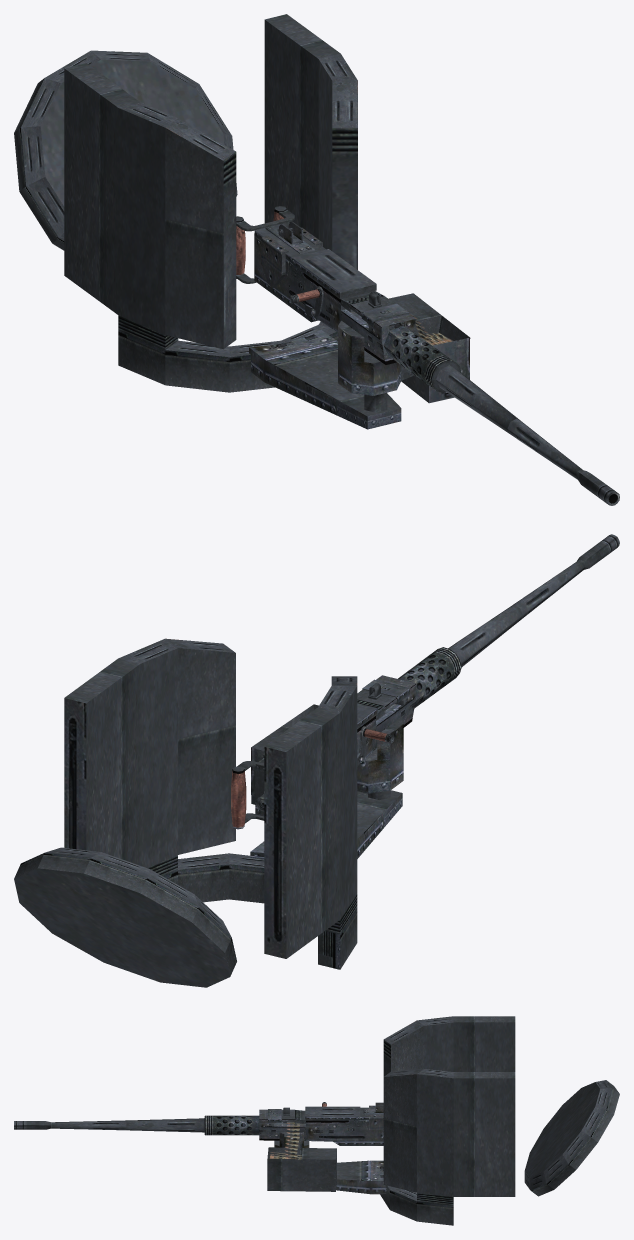
File: em50cal.glb
3 views of the same model, one above another, from view 1: azimuth 30°, elevation 25°; view 2: azimuth 150°, elevation 25°; view 3: azimuth 270°, elevation 25° (orthographic). The views are drawn at different scales.
Visible parts, largest first — view 1: _em50cal; view 2: _em50cal; view 3: _em50cal.
Boxes of the visible parts, x1,y1,x2,y2 form: _em50cal: (14,14,619,505); _em50cal: (14,534,619,987); _em50cal: (14,1016,619,1225).
Bounding box in the file's own units: 0.824 × 0.9118 × 3.4.
Materials: 2 (2 with a texture image).
